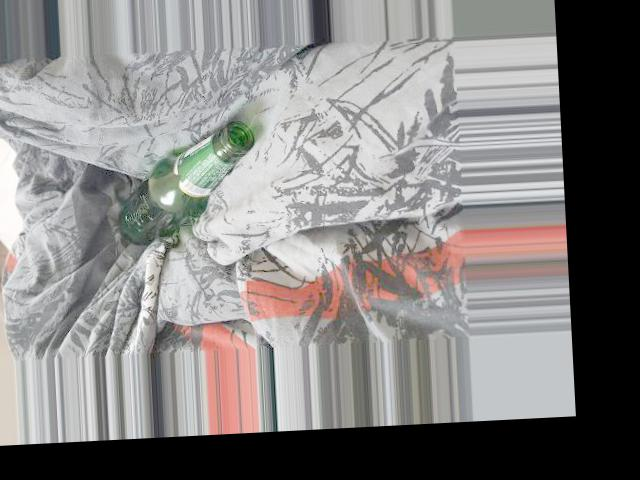beer: (114, 121, 259, 246)
